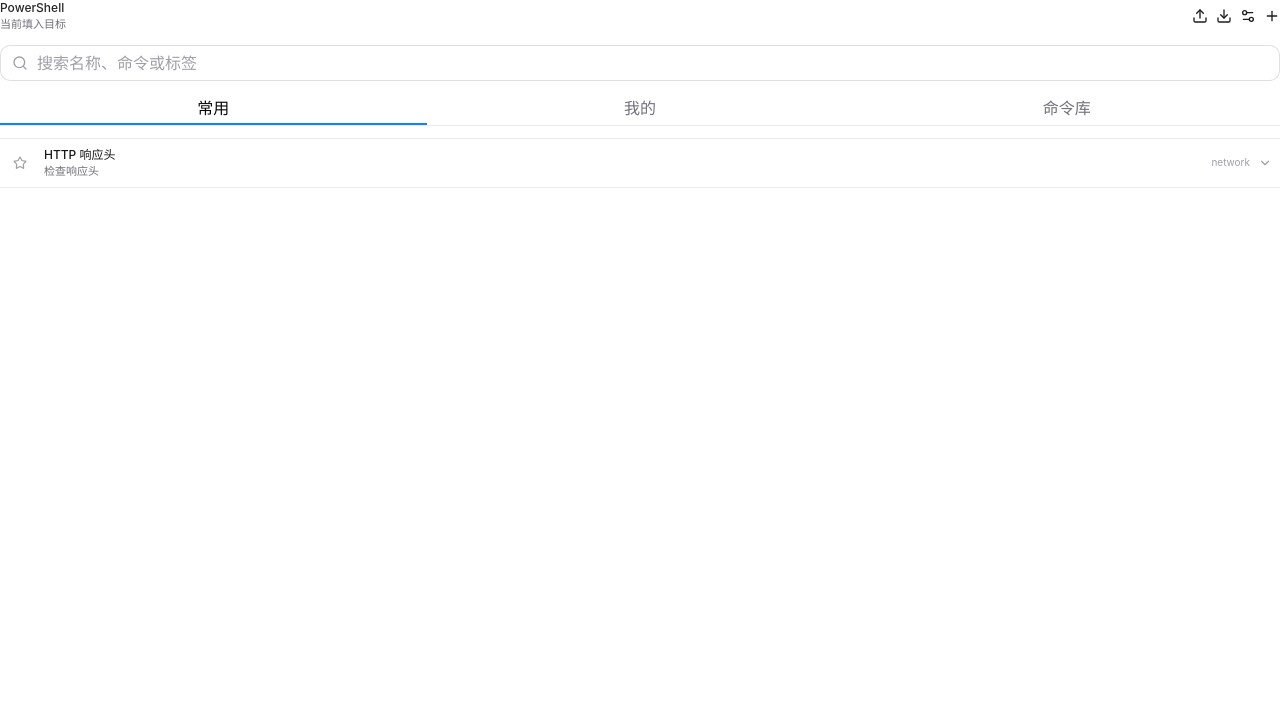
Test: SnippetToolContentV2 › prefills the editor from the current terminal command
Expected: the text "HTTP 响应头" is shown, [44,146,116,162]
What coordinates should you click on to do the following:
click the button named "新建命令片段"
I would click on:
 (1272, 16)
Its box is [1264,8,1279,24].
(page scrolled)
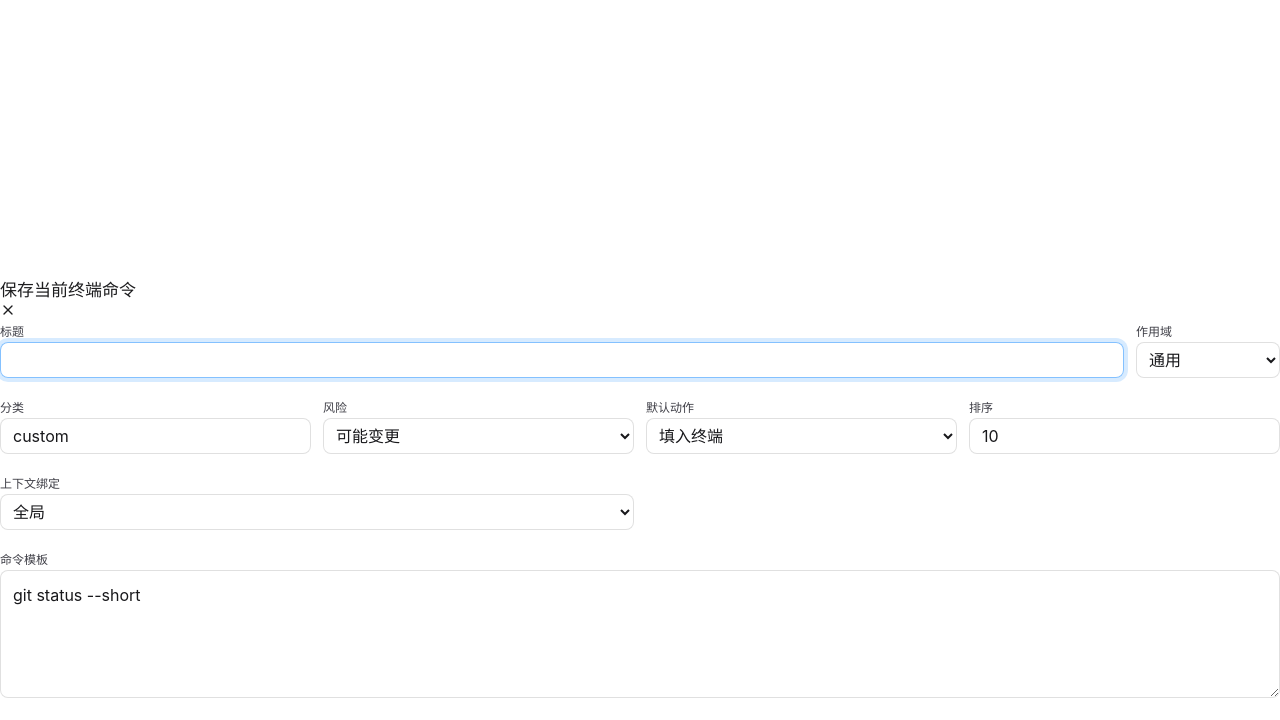
Now the text box labelled "命令模板" holds "git status --short", box [0,570,1279,698]
